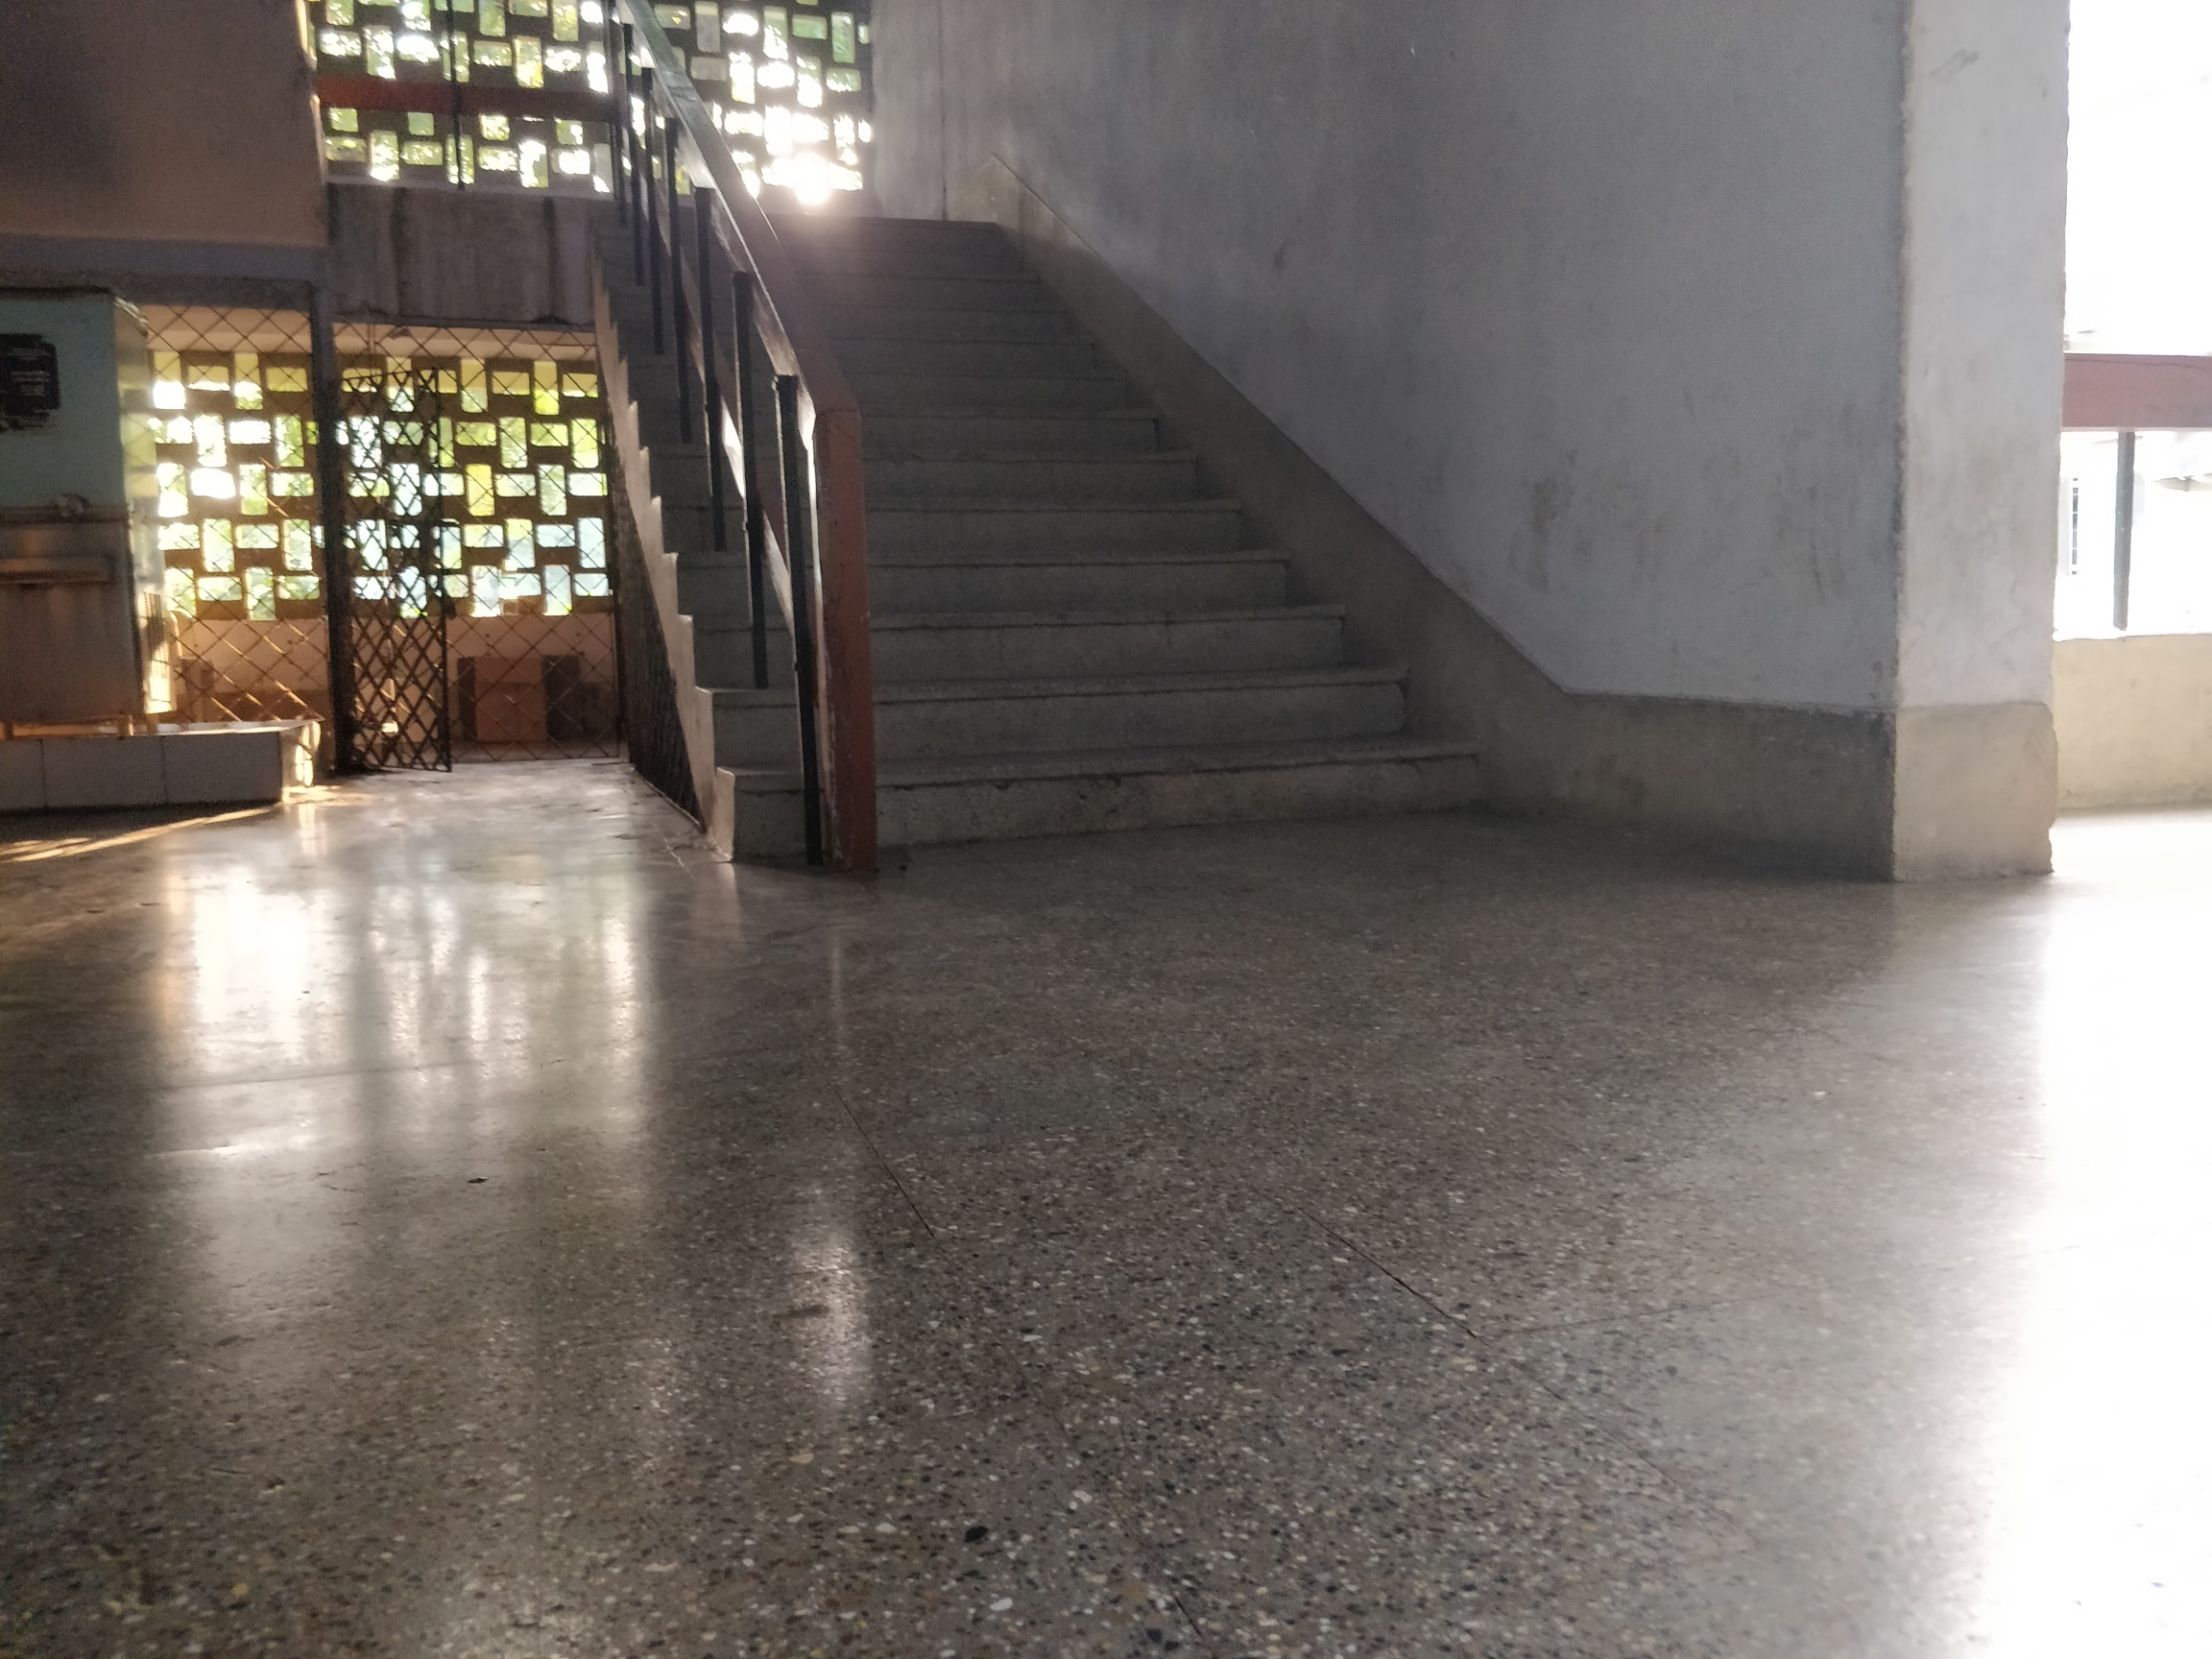stairs_up: (549, 159, 1484, 875)
